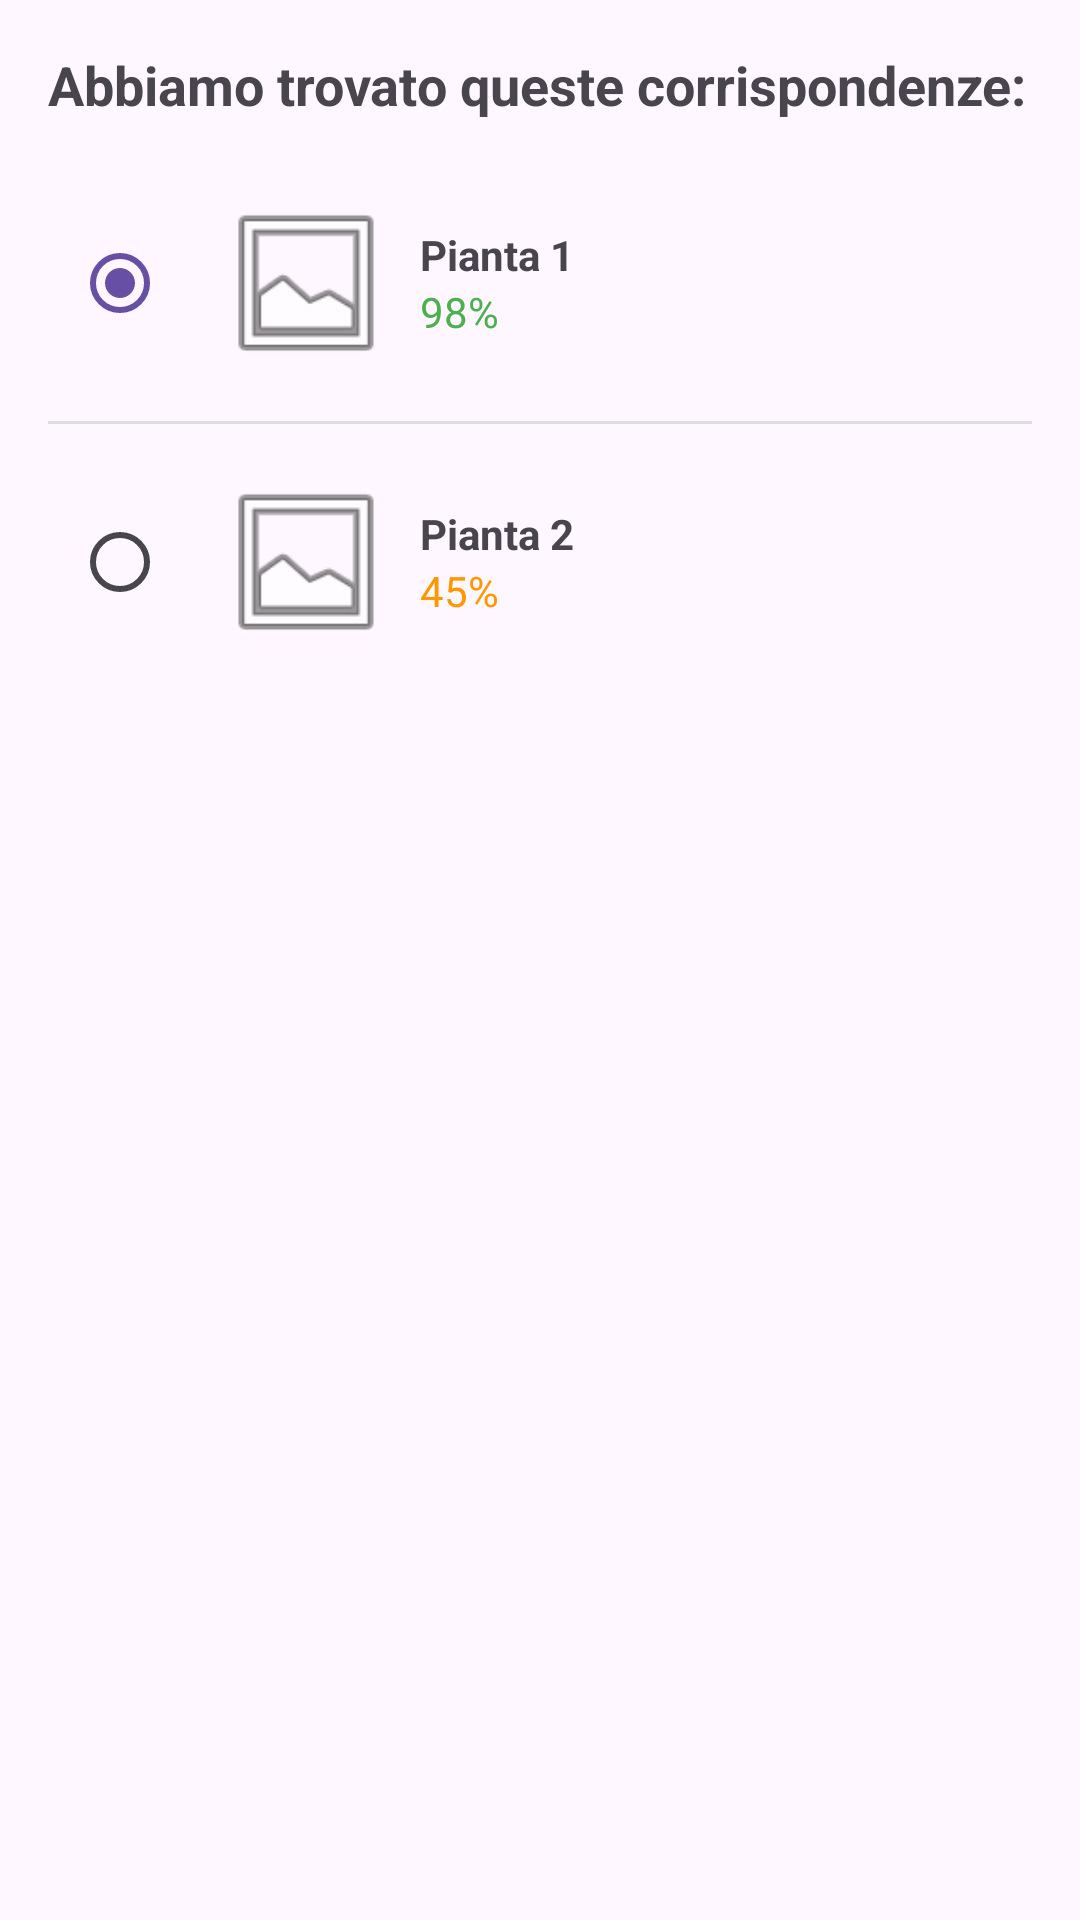

Point at icon controls on the screen. Image size 1080w x 1920h, points as [x,y].
gallery: [306,283], [306,562]
